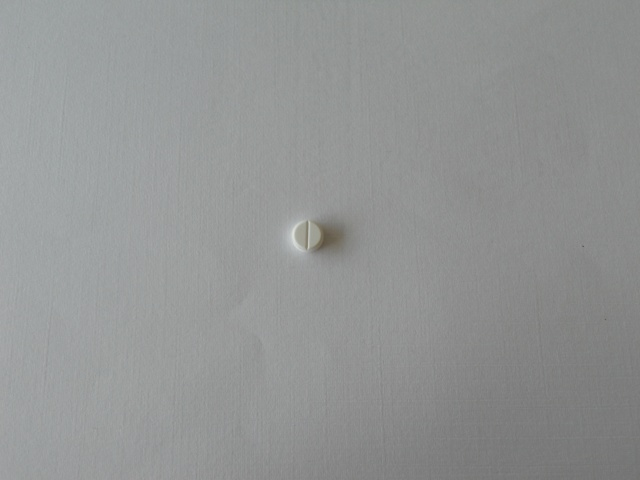|: (303, 219, 315, 250)
